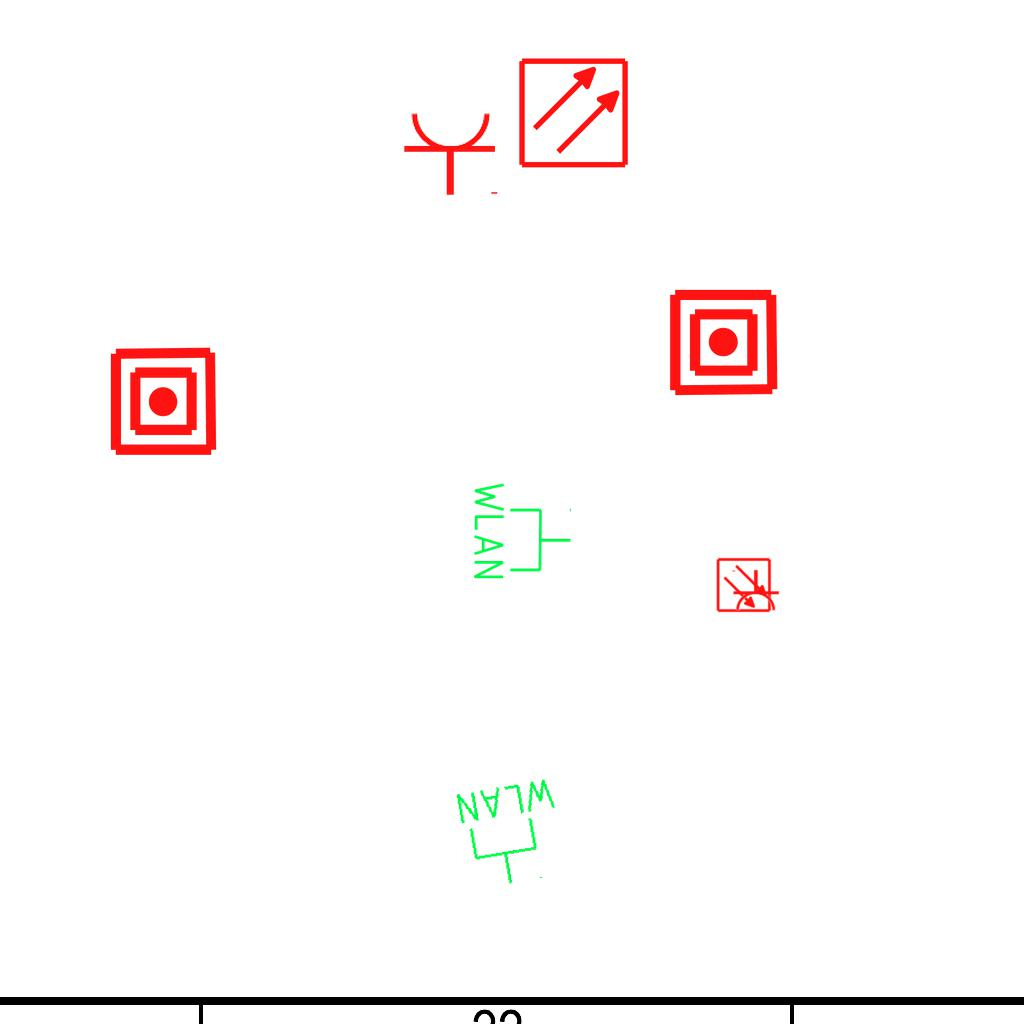NAM-Nichtautomatischer_Melder: (107, 345, 220, 458), (667, 286, 780, 399)
RMO_Rauchmelder_optischer: (517, 56, 630, 169), (716, 557, 772, 613)
Schukosteckdose_einfach: (402, 110, 502, 197), (730, 569, 780, 612)
WLAN: (451, 773, 573, 894), (470, 478, 574, 583)
